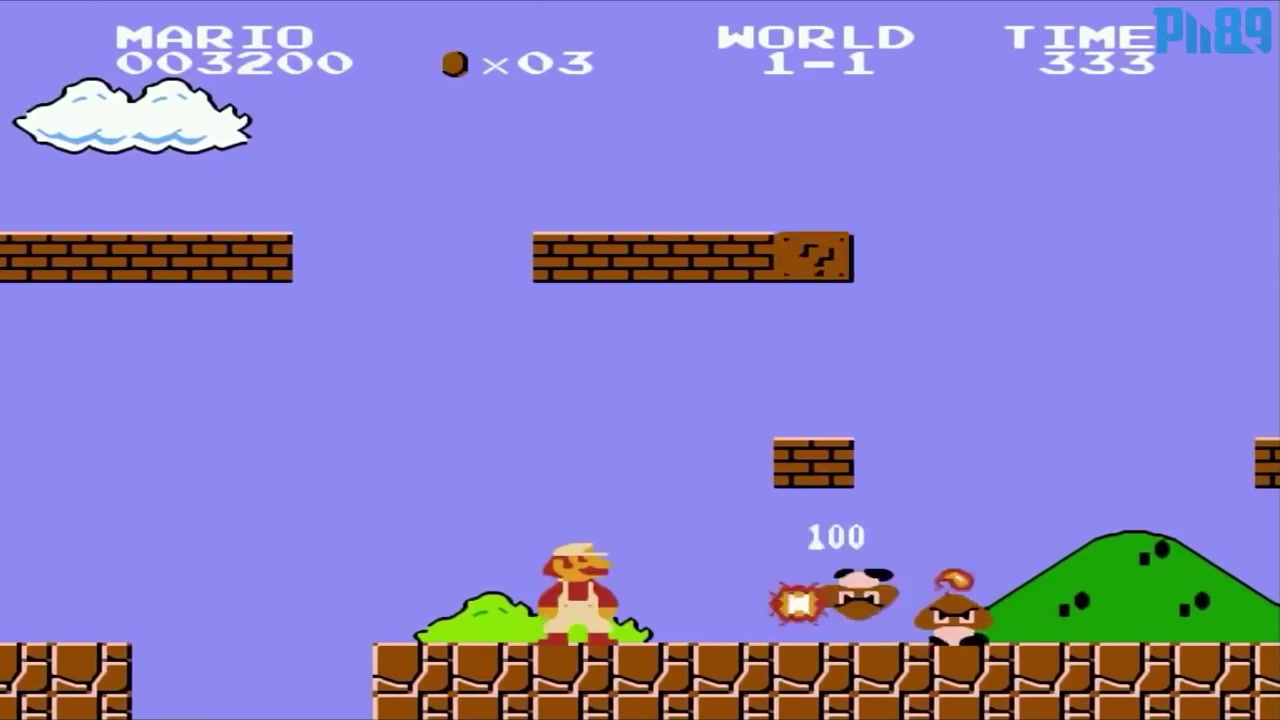mario: (531, 542, 614, 657)
